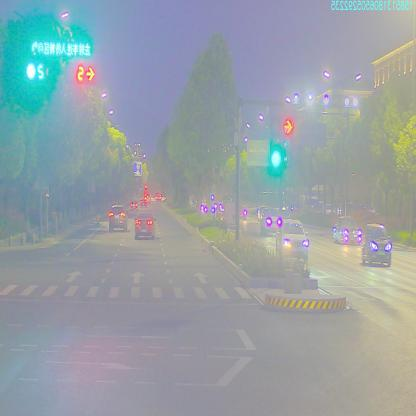traffic-light: (30, 40, 92, 56), (75, 62, 95, 87), (25, 63, 44, 84)
